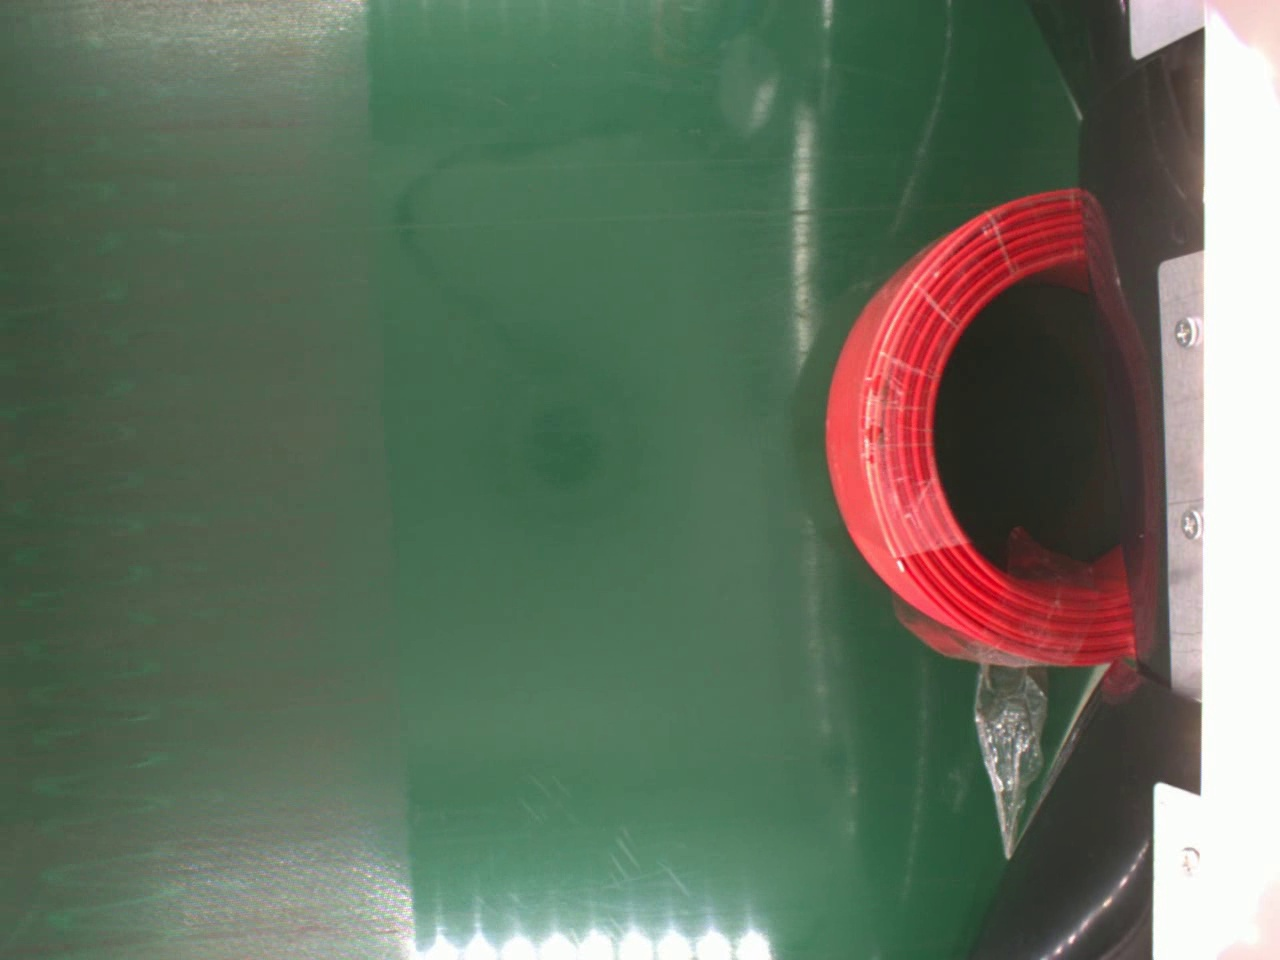red: (823, 183, 1137, 661)
